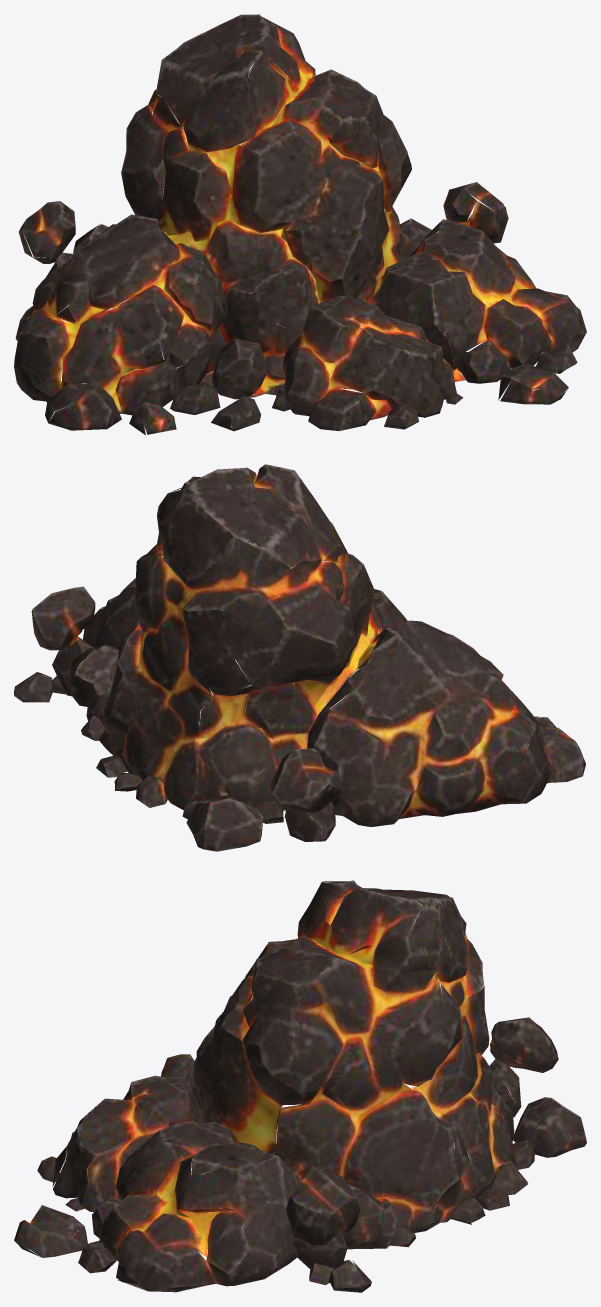
Rendered from deco_lava_rock_lite.glb.
3 views of the same model, one above another, from view 1: azimuth 30°, elevation 25°; view 2: azimuth 150°, elevation 25°; view 3: azimuth 270°, elevation 25° (orthographic). The views are drawn at different scales.
Parts seen in each view (by area): view 1: geometry_0; view 2: geometry_0; view 3: geometry_0.
Boxes of the visible parts, x1=… form: geometry_0: x1=14, y1=14, x2=586, y2=435; geometry_0: x1=14, y1=464, x2=585, y2=851; geometry_0: x1=14, y1=880, x2=586, y2=1292.
Size of the model in its own units: 1.72 by 0.9175 by 1.62.
Materials: 1 (1 with a texture image).
